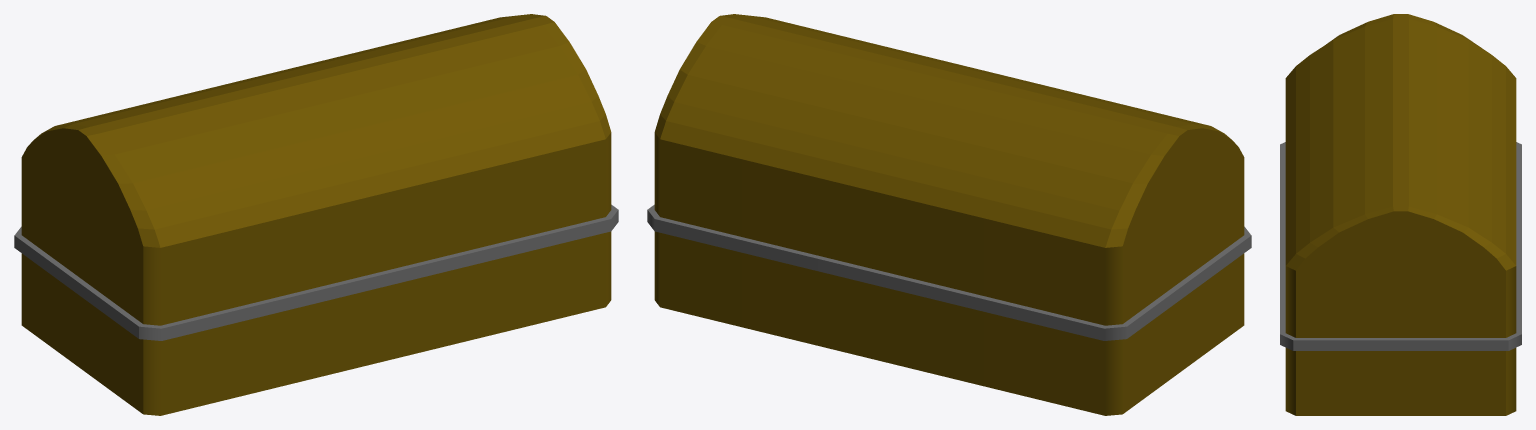
Rendered from Chest.fbx.
3 renders of one model, left to right at view 1: azimuth 30°, elevation 25°; view 2: azimuth 150°, elevation 25°; view 3: azimuth 270°, elevation 25°, orthographic. The views are drawn at different scales.
Visible parts, largest first — view 1: pCube1; view 2: pCube1; view 3: pCube1.
Boxes of the visible parts, x1,y1,x2,y2 form: pCube1: (14, 14, 618, 415); pCube1: (647, 14, 1251, 415); pCube1: (1280, 14, 1521, 415).
Bounding box in the file's own units: 42.11 × 19.87 × 21.3.
